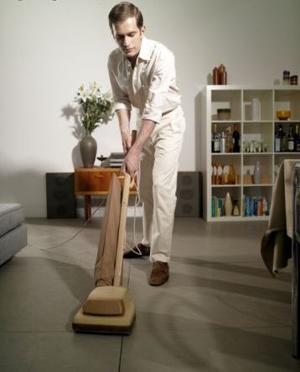person: (107, 3, 186, 291)
